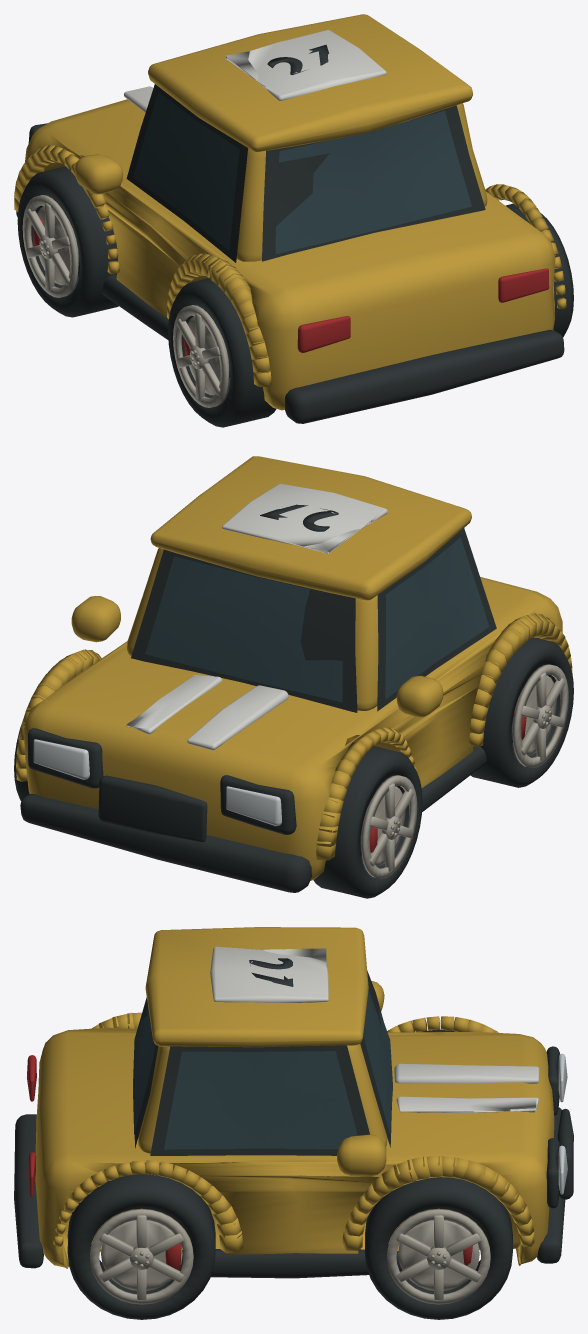
Rendered from car_agile.glb.
3 views of the same model, one above another, from view 1: azimuth 30°, elevation 25°; view 2: azimuth 150°, elevation 25°; view 3: azimuth 270°, elevation 25° (orthographic).
Visible parts, largest first — view 1: Body.001, WheelMesh.004, WheelMesh.006, WheelMesh.007; view 2: Body.001, WheelMesh.004, WheelMesh.006; view 3: Body.001, WheelMesh.007, WheelMesh.005.
Part boxes in pixels (bbox=[...]): Body.001: bbox=[14, 14, 566, 423]; WheelMesh.004: bbox=[17, 166, 118, 317]; WheelMesh.006: bbox=[168, 278, 276, 427]; WheelMesh.007: bbox=[505, 203, 573, 337]; Body.001: bbox=[16, 456, 572, 892]; WheelMesh.004: bbox=[313, 742, 422, 898]; WheelMesh.006: bbox=[470, 637, 573, 787]; Body.001: bbox=[14, 927, 573, 1278]; WheelMesh.007: bbox=[67, 1168, 215, 1319]; WheelMesh.005: bbox=[365, 1177, 512, 1319].
Bounding box in the file's own units: 2.64 × 1.95 × 3.63.
